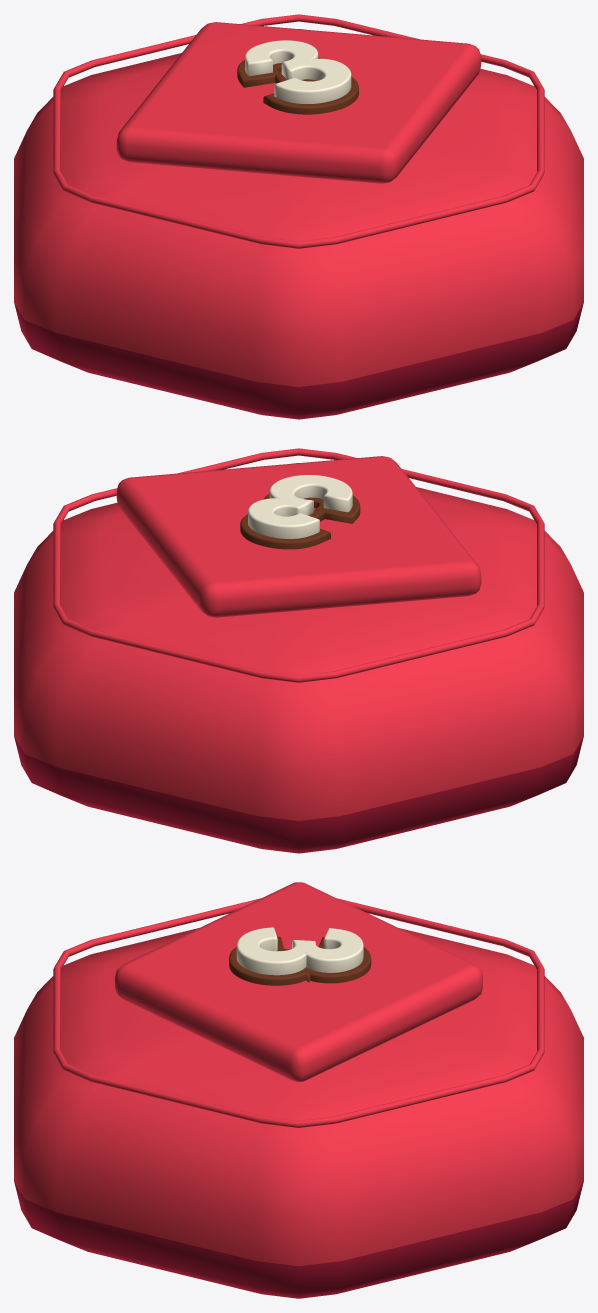
The model's file is HexStone_03_LightRed.fbx.
3 renders of one model, top to bottom at view 1: azimuth 30°, elevation 25°; view 2: azimuth 150°, elevation 25°; view 3: azimuth 270°, elevation 25°, orthographic.
Visible parts, largest first — view 1: HX_V03_LightRed_Body, HX_ToneRelief_03, HX_V03_LightRed_InnerRim, HX_V03_Digit_3_Face, HX_V03_Digit_3_Outline; view 2: HX_V03_LightRed_Body, HX_ToneRelief_03, HX_V03_LightRed_InnerRim, HX_V03_Digit_3_Face, HX_V03_Digit_3_Outline; view 3: HX_V03_LightRed_Body, HX_ToneRelief_03, HX_V03_LightRed_InnerRim, HX_V03_Digit_3_Face, HX_V03_Digit_3_Outline.
Boxes of the visible parts, x1,y1,x2,y2 form: HX_V03_LightRed_Body: (14, 29, 583, 419); HX_ToneRelief_03: (116, 22, 481, 183); HX_V03_LightRed_InnerRim: (53, 14, 544, 248); HX_V03_Digit_3_Face: (245, 40, 351, 103); HX_V03_Digit_3_Outline: (237, 57, 358, 114); HX_V03_LightRed_Body: (14, 463, 583, 853); HX_ToneRelief_03: (116, 456, 481, 617); HX_V03_LightRed_InnerRim: (53, 448, 544, 682); HX_V03_Digit_3_Face: (248, 475, 352, 538); HX_V03_Digit_3_Outline: (240, 494, 360, 549); HX_V03_LightRed_Body: (14, 928, 583, 1298); HX_ToneRelief_03: (115, 882, 482, 1081); HX_V03_LightRed_InnerRim: (53, 898, 544, 1127); HX_V03_Digit_3_Face: (236, 927, 363, 975); HX_V03_Digit_3_Outline: (229, 936, 371, 985).
Bounding box in the file's own units: 75.07 × 31.05 × 67.55.
